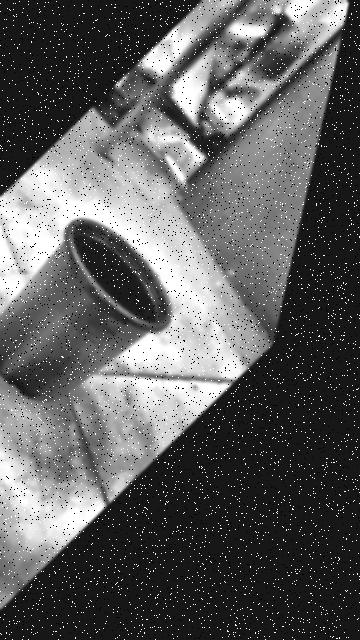pot: (0, 217, 170, 400)
